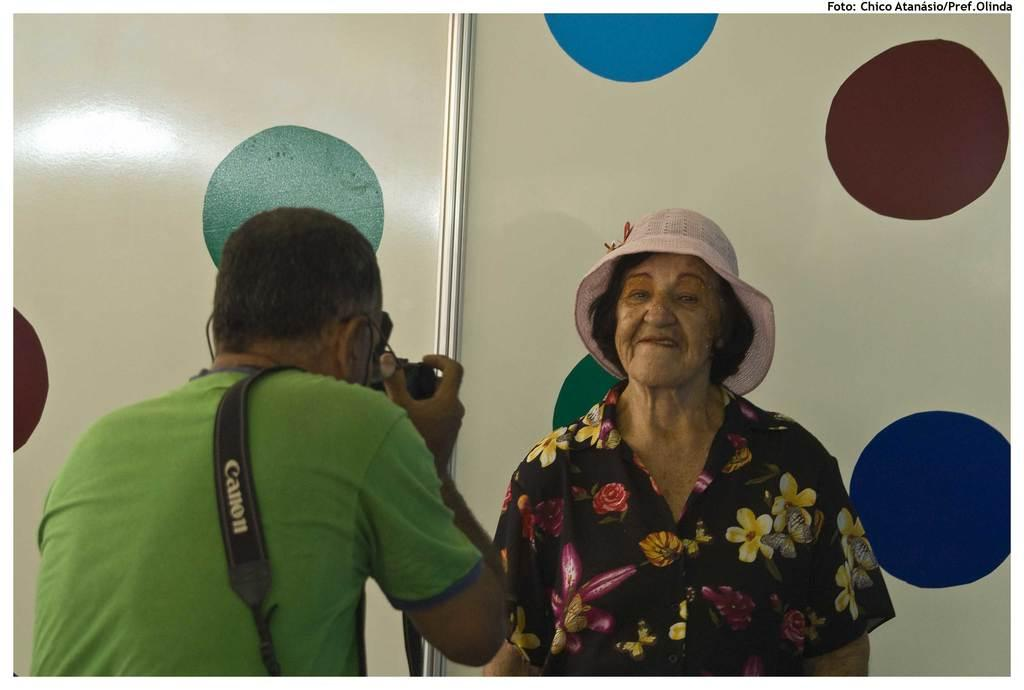Hat: (570, 209, 778, 396)
